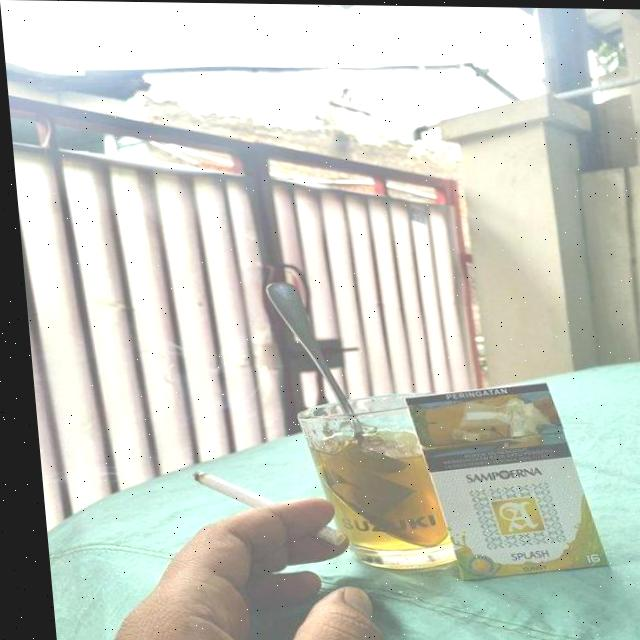cigarette: (181, 468, 336, 545)
